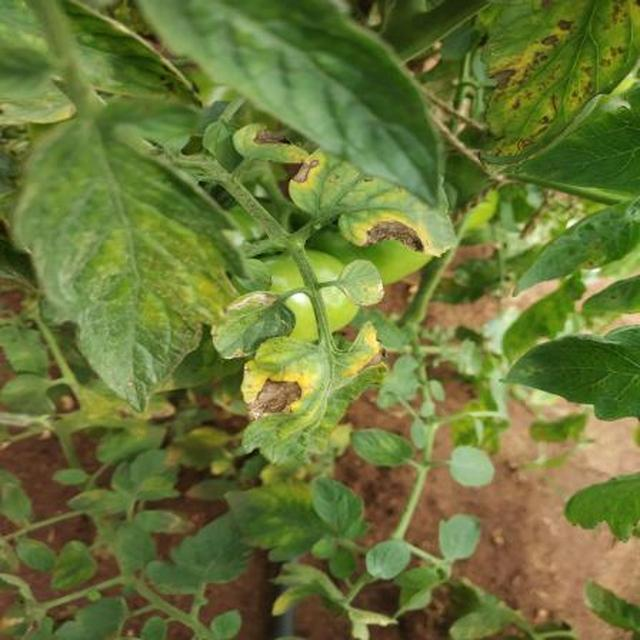Early Blight Leaf: (215, 154, 534, 572)
